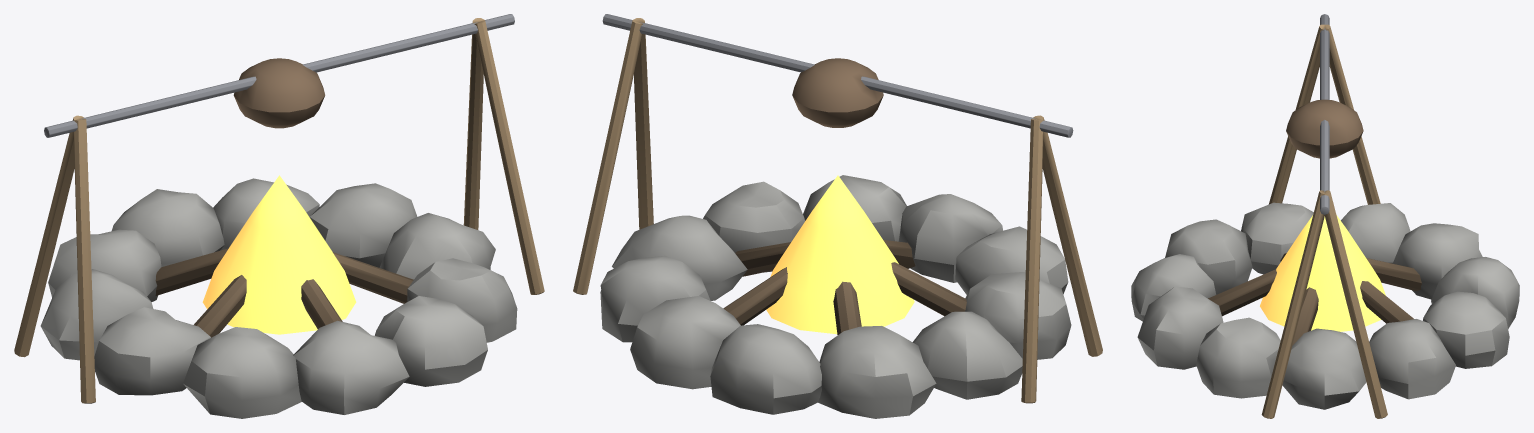
Rendered from dh_campfire.glb.
The picture shows the model from 3 angles, left to right: view 1: azimuth 30°, elevation 25°; view 2: azimuth 150°, elevation 25°; view 3: azimuth 270°, elevation 25°; orthographic projection. The views are drawn at different scales.
Parts seen in each view (by area): view 1: dh_campfire, flame; view 2: dh_campfire, flame; view 3: dh_campfire, flame.
Boxes of the visible parts, bbox=[...] form: dh_campfire: bbox=[14, 14, 544, 418]; flame: bbox=[202, 175, 356, 334]; dh_campfire: bbox=[573, 14, 1102, 418]; flame: bbox=[766, 175, 914, 334]; dh_campfire: bbox=[1131, 14, 1519, 418]; flame: bbox=[1260, 215, 1385, 331].
Bounding box in the file's own units: 2.8 × 1.5 × 2.39.
